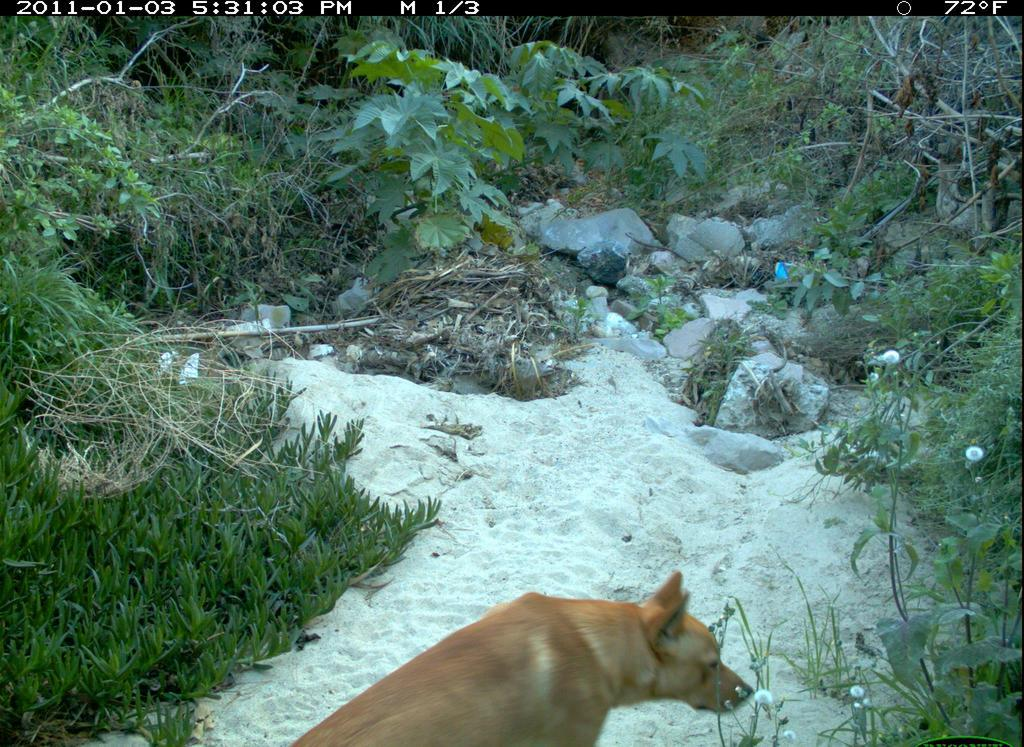dog: (280, 569, 749, 747)
